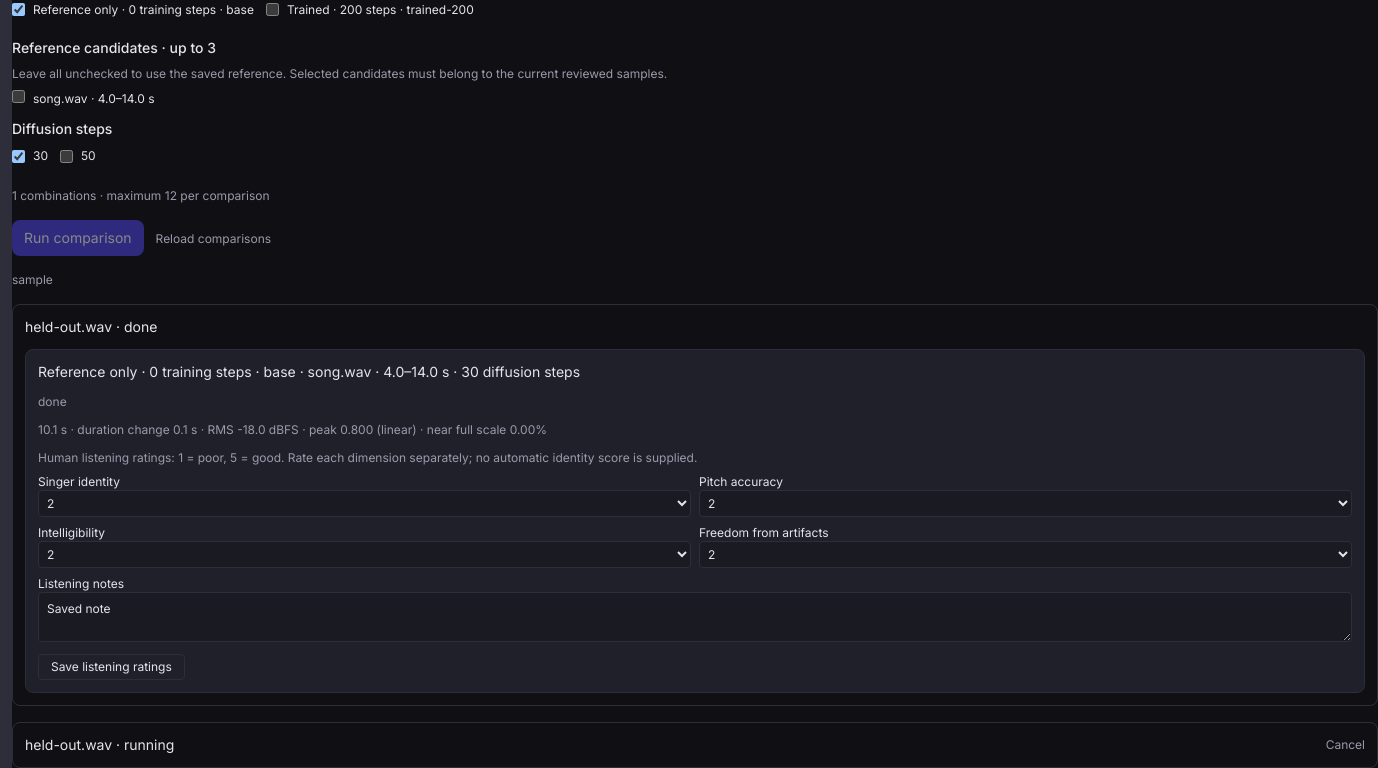
Test: preserves unfinished ratings through polling and hydrates saved ratings after an explicit save
(page scrolled)
Select "4" in the dropdown named "Singer identity": [364, 504] box top-left (38, 490), bottom-right (691, 517)
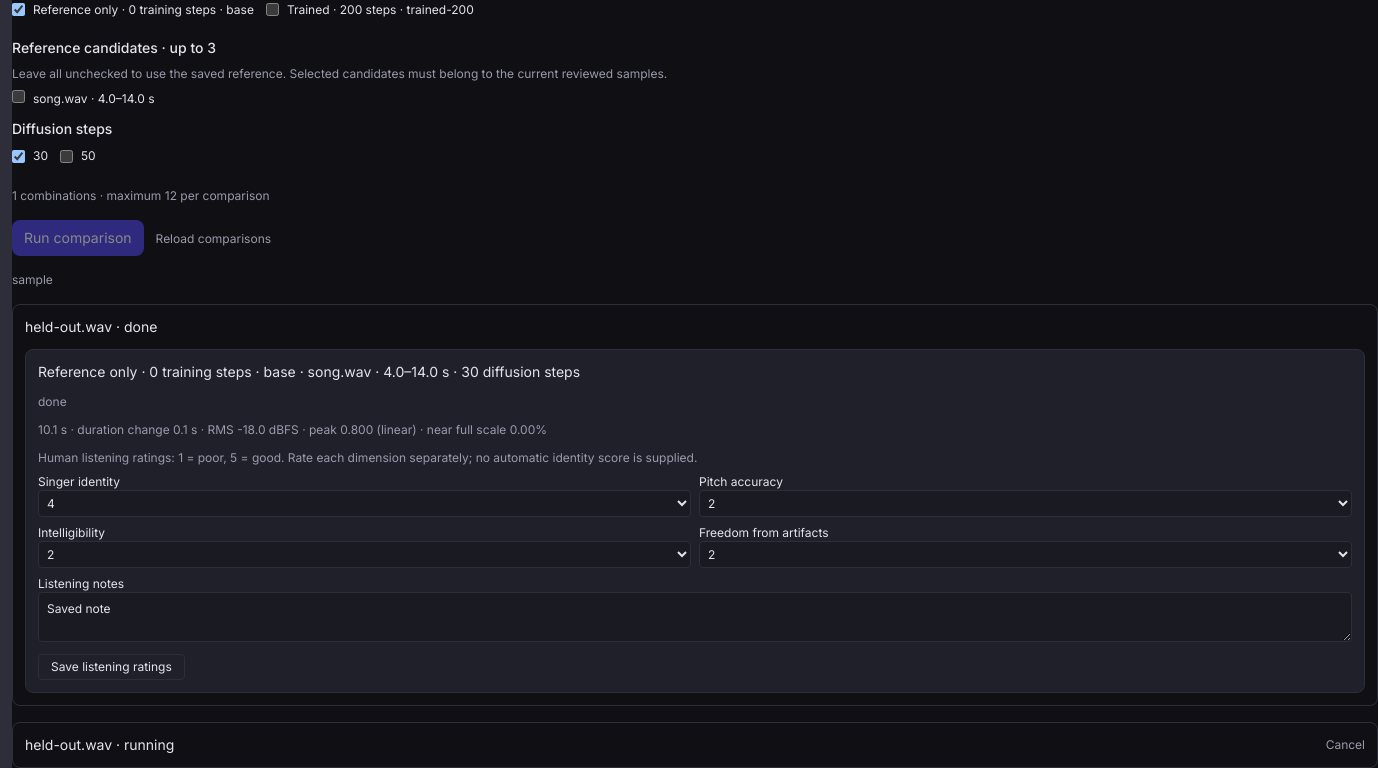
Replace the text in the text box labelled "Listening notes" with "Unsaved newer note": [695, 617] box top-left (38, 592), bottom-right (1352, 642)
Wait 2000 ms
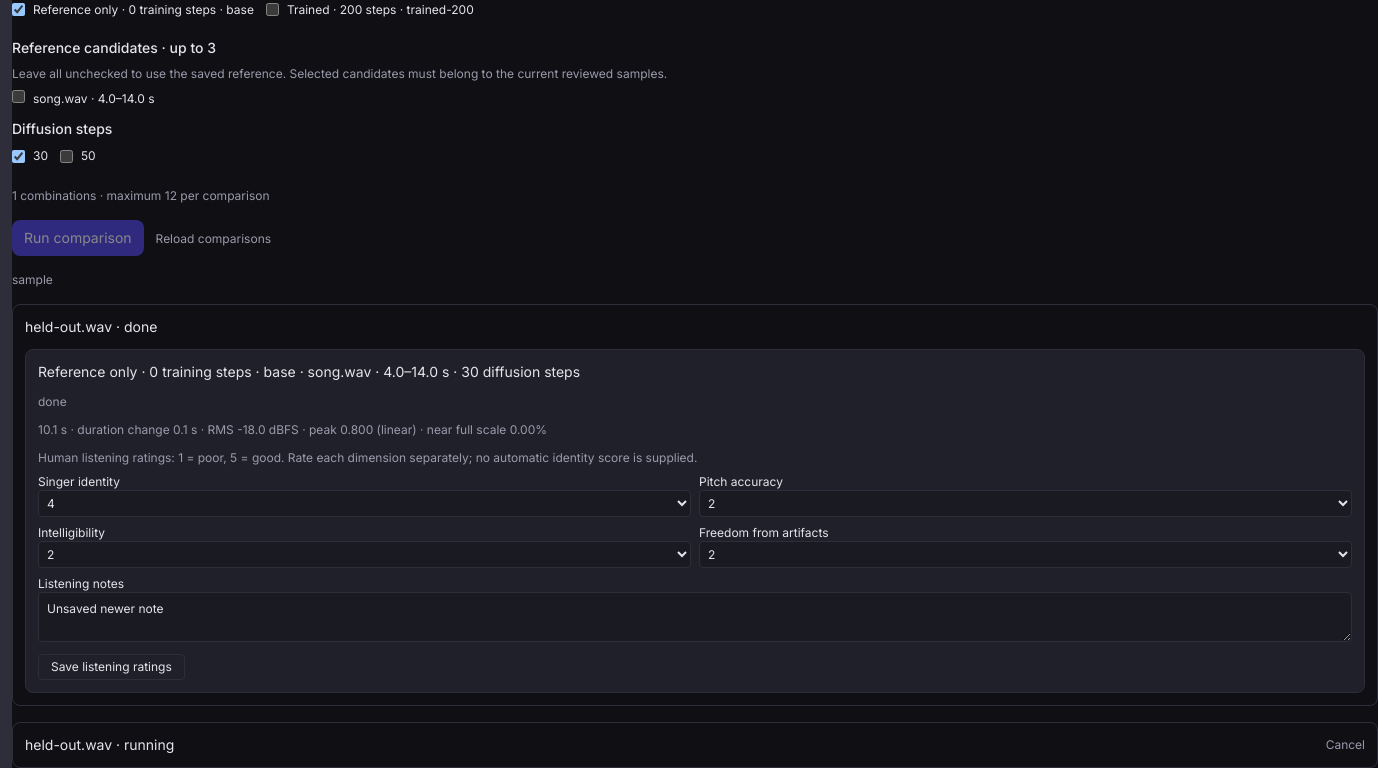
Click the button "Save listening ratings": [111, 667] box top-left (38, 654), bottom-right (185, 680)
Wait 2000 ms
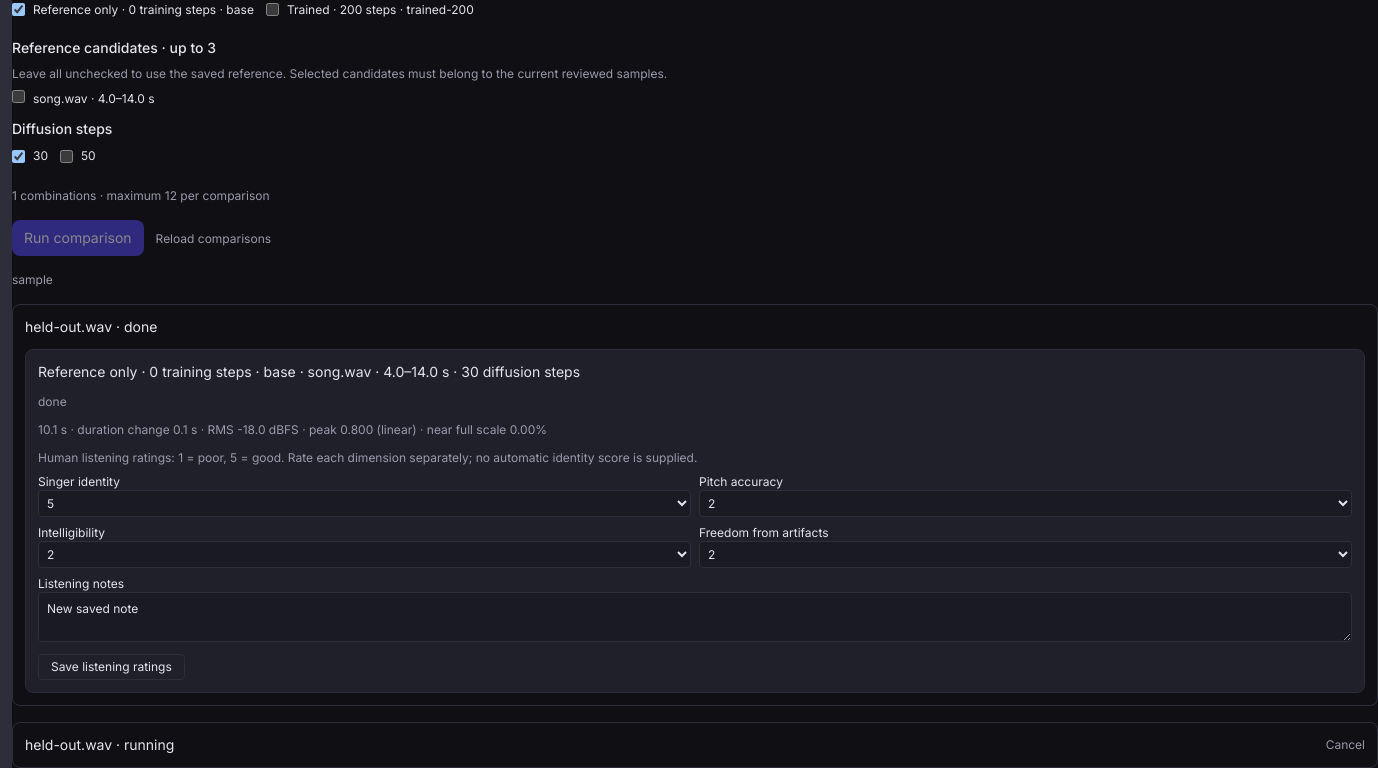
Result: the text box labelled "Listening notes" holds "New saved note" at top-left (38, 592), bottom-right (1352, 642)
